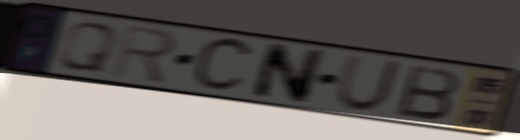B: (394, 63, 463, 123)
C: (188, 35, 258, 95)
N: (248, 41, 329, 107)
Q: (53, 20, 122, 75)
R: (108, 22, 180, 86)
U: (331, 53, 405, 114)
